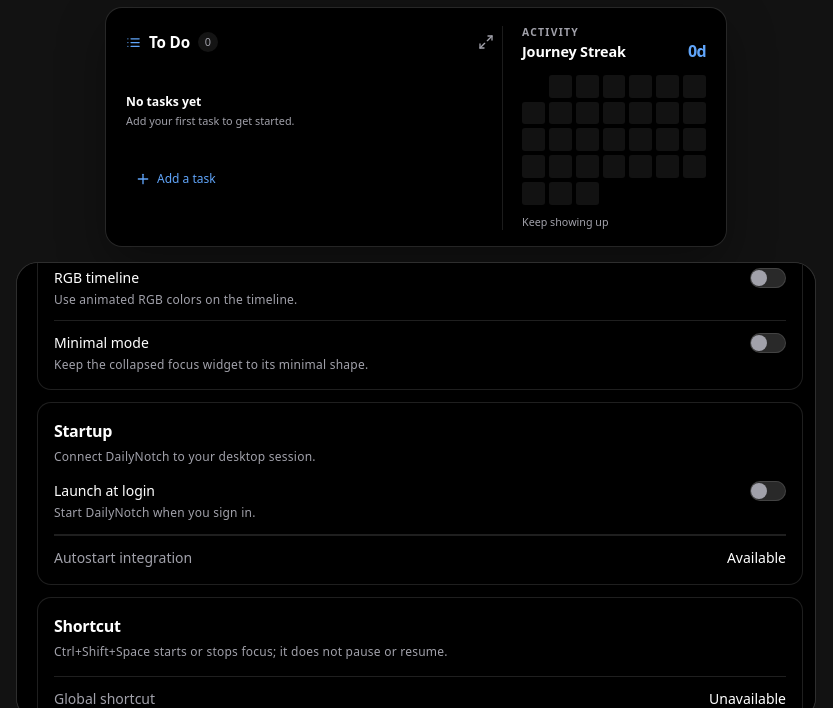
Test: Settings surface › refreshes diagnostics after an autostart failure and retries successfully
(page scrolled)
Step 1. Click the switch named "Launch at login" → (768, 491), box left=750, top=481, right=786, bottom=501
(page scrolled)
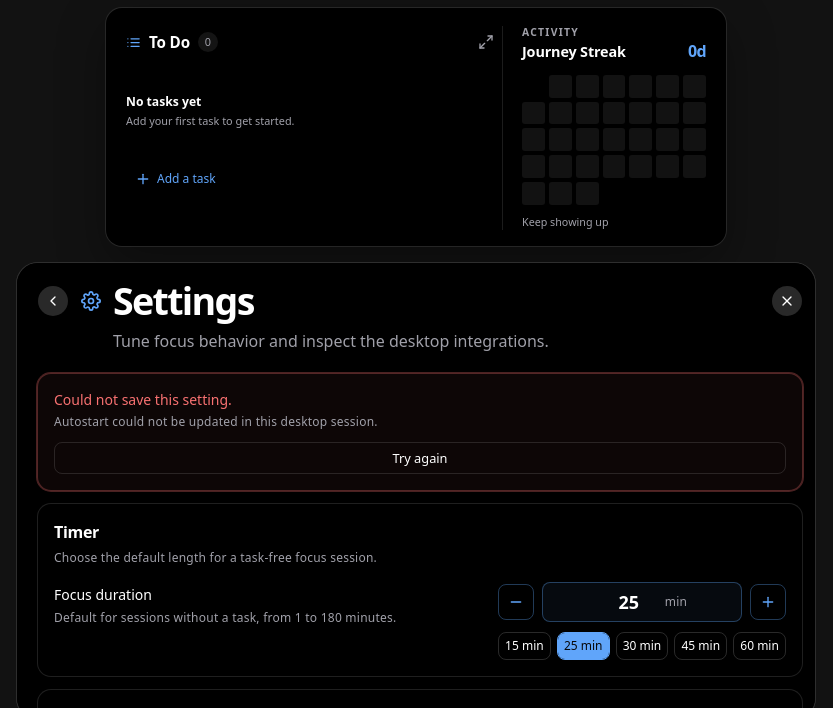
Result: the message shows "could not be updated" at left=54, top=413, right=378, bottom=430
Step 2. Click the button "Try again" → (420, 458), box left=54, top=442, right=786, bottom=474
(page scrolled)
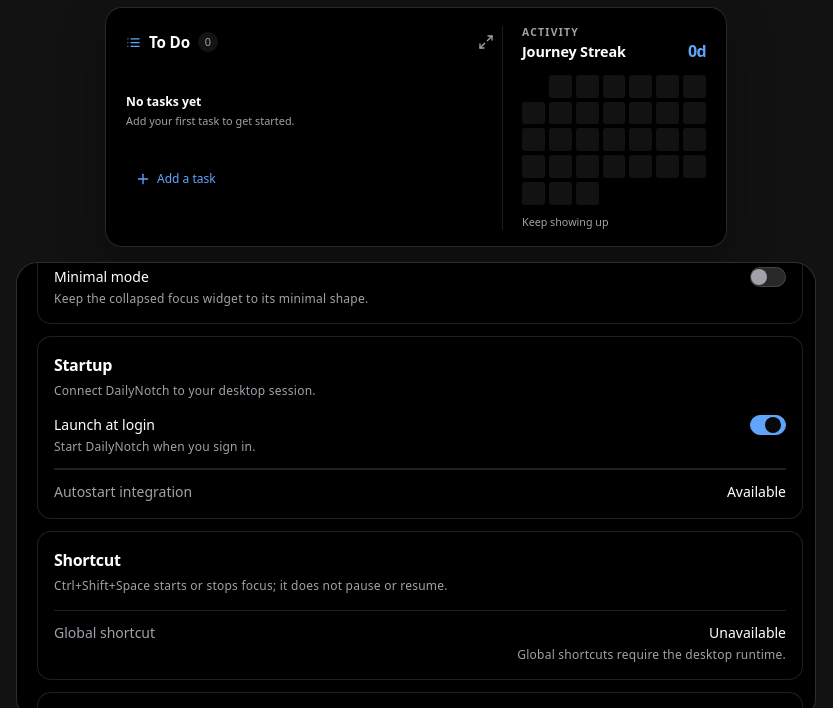
Result: the switch named "Launch at login" is checked at left=750, top=415, right=786, bottom=435
Result: the text "Available" is shown at left=727, top=482, right=786, bottom=500
